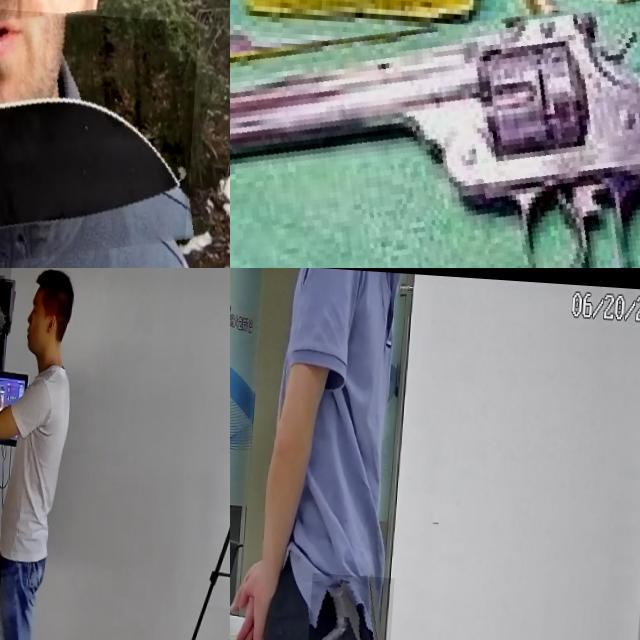-: (0, 0, 230, 268)
gun-knife-thesis - v11 Yolov5 augmented: (230, 0, 640, 268), (309, 569, 399, 640), (0, 268, 22, 338)
